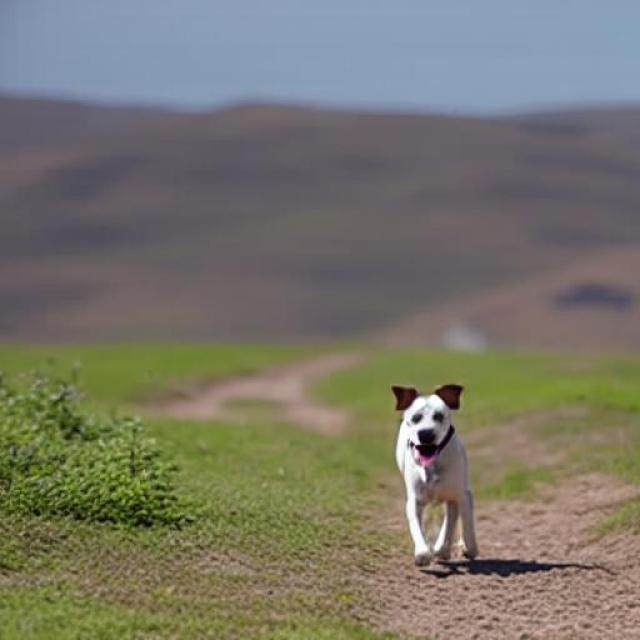Dog: (391, 384, 478, 566)
